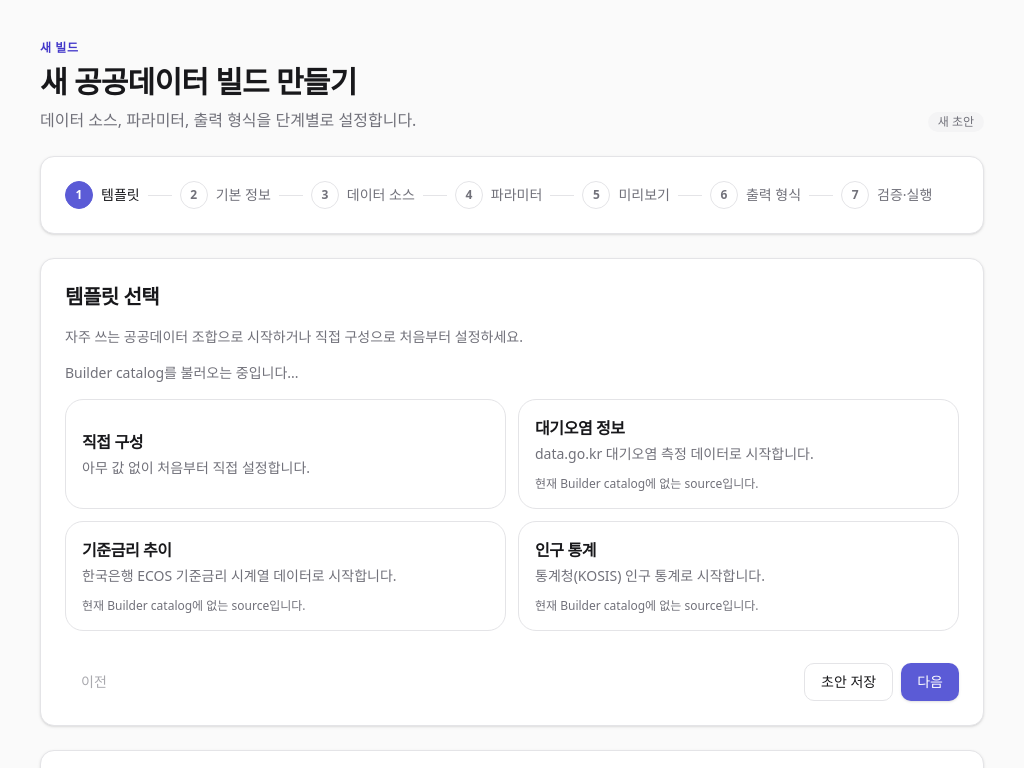
Test: New Build 템플릿 catalog 상태 (#Phase2 UI polish) › loaded — available: a template present in the Builder catalog stays enabled and selectable
Click the button "대기오염 정보" at x=738, y=454, box [518,399,959,509]
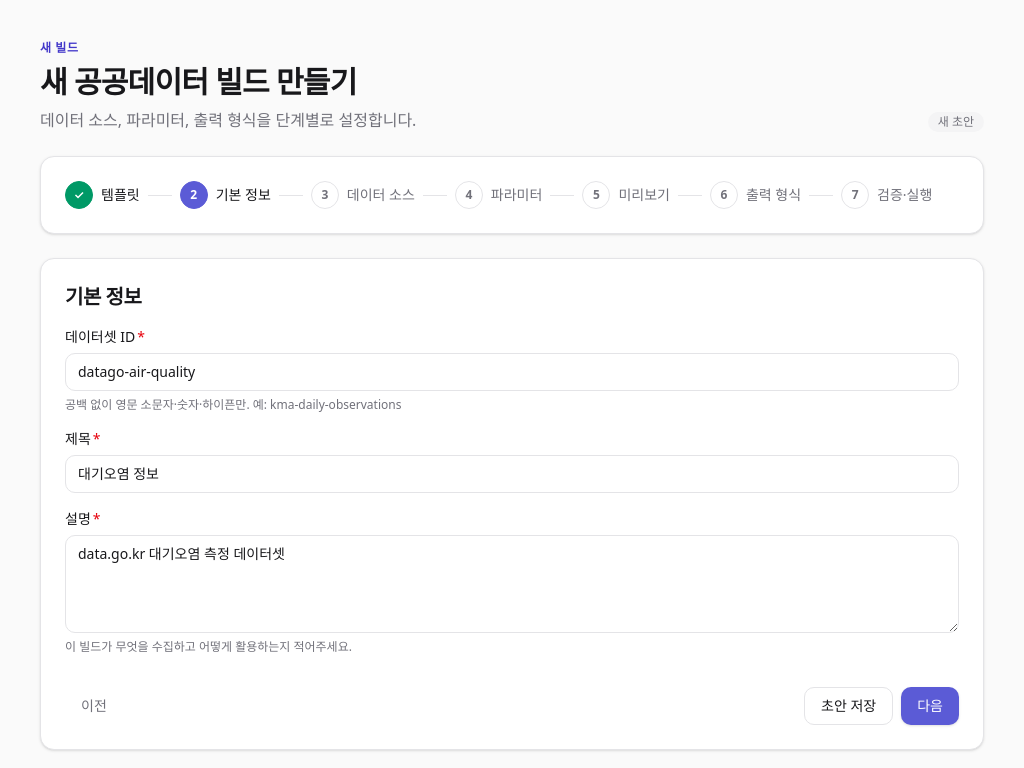
Now the heading "기본 정보" is shown, box [65,283,141,310]
